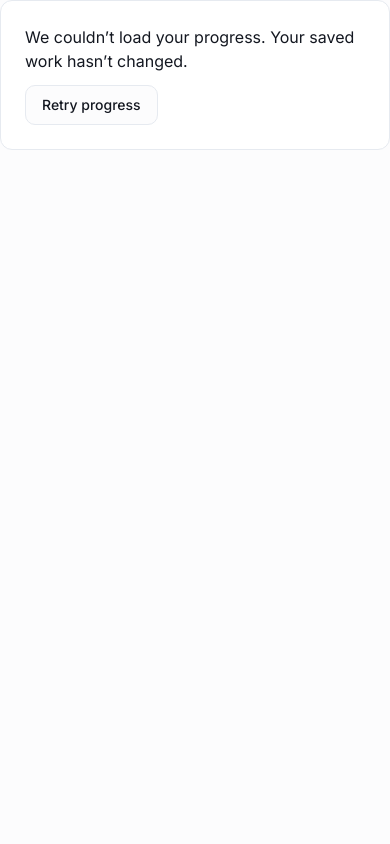
Scenario: fails closed on query error and supports retry
expect the message shows "couldn’t load": met, box [25, 27, 354, 71]
expect the text "saved milestones" is not shown: met
Click the button "Retry progress" at (91, 105), box [25, 85, 158, 125]
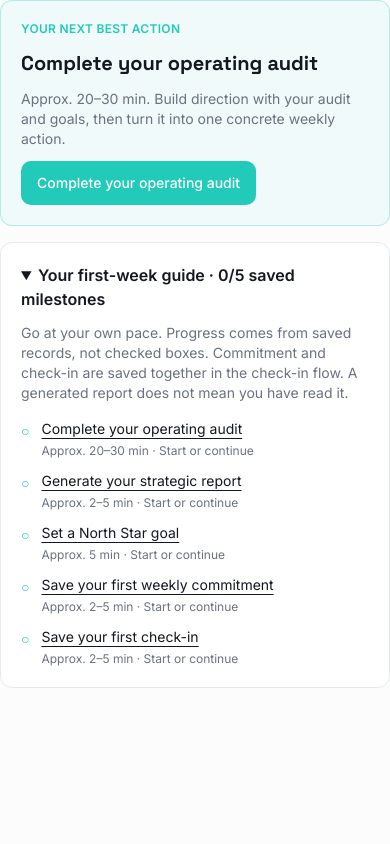
expect the heading "Your first-week guide · 0/5 saved milestones" is shown: met, box [21, 265, 295, 309]
